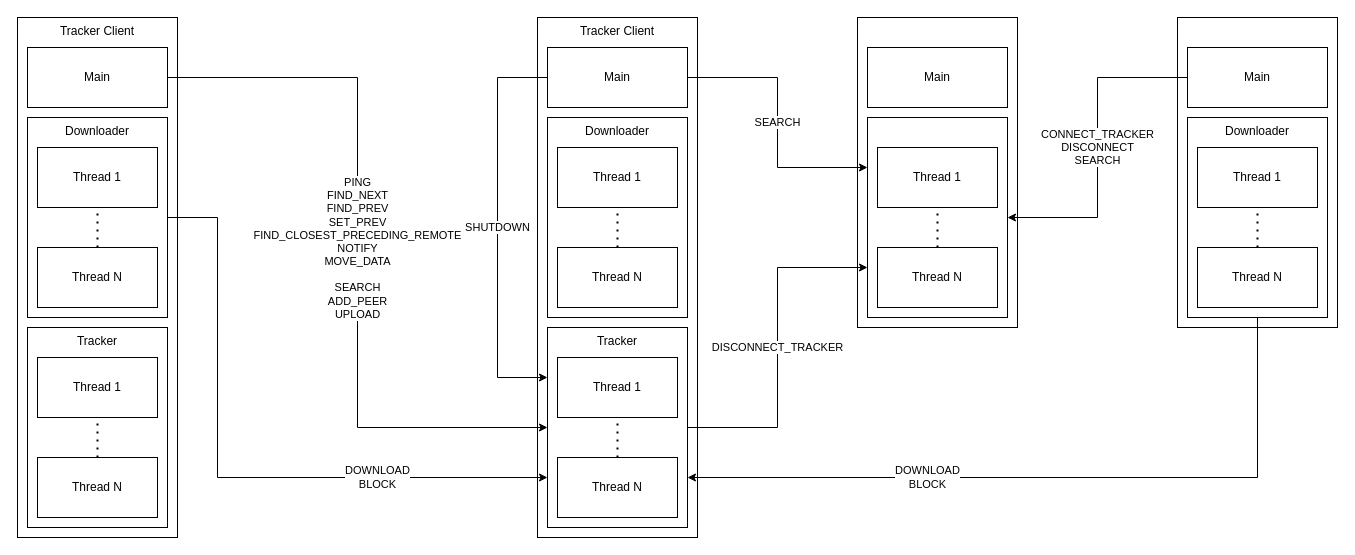
This 1355x555 diagram has some shape labels left out. Each missing label, with the box of its shape:
API: (866, 116, 1008, 318)
Non-Tracker Client: (1176, 16, 1338, 328)
Server: (856, 16, 1018, 328)
